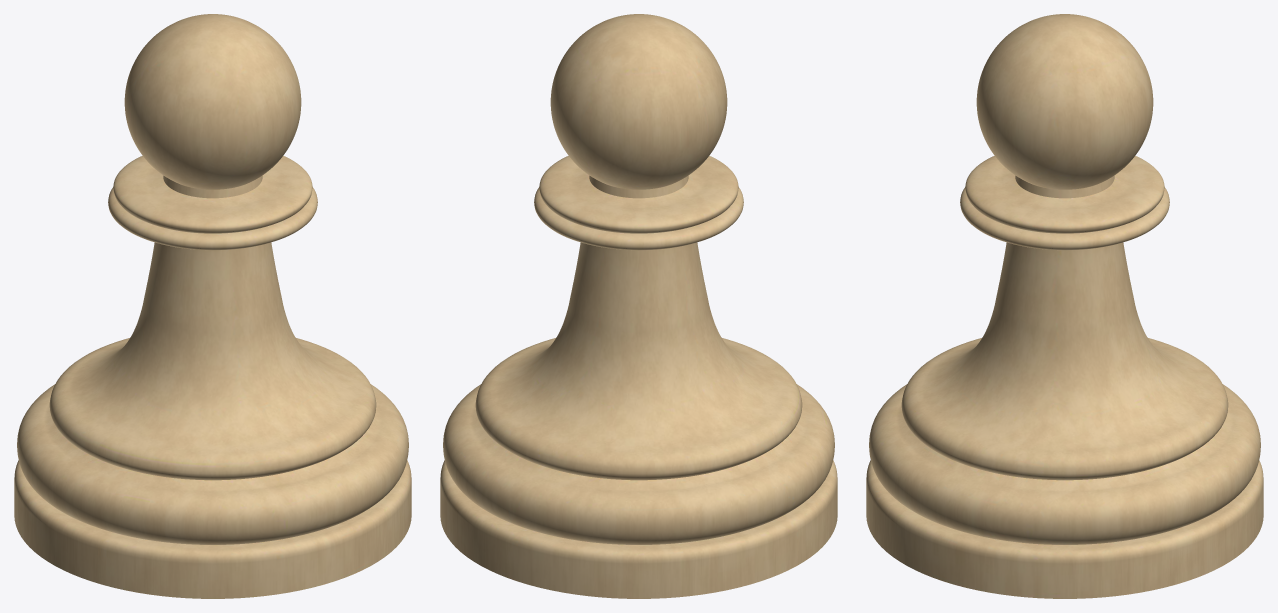
File: bauer_weiss.glb
3 renders of one model, left to right at view 1: azimuth 30°, elevation 25°; view 2: azimuth 150°, elevation 25°; view 3: azimuth 270°, elevation 25°, orthographic.
Visible parts, largest first — view 1: bauer_weiss; view 2: bauer_weiss; view 3: bauer_weiss.
Boxes of the visible parts, <box> form: bauer_weiss: <box>14,14,411,598</box>; bauer_weiss: <box>440,14,837,598</box>; bauer_weiss: <box>866,14,1263,598</box>.
Size of the model in its own units: 0.72 by 0.985 by 0.72.
Materials: 1 (1 with a texture image).
